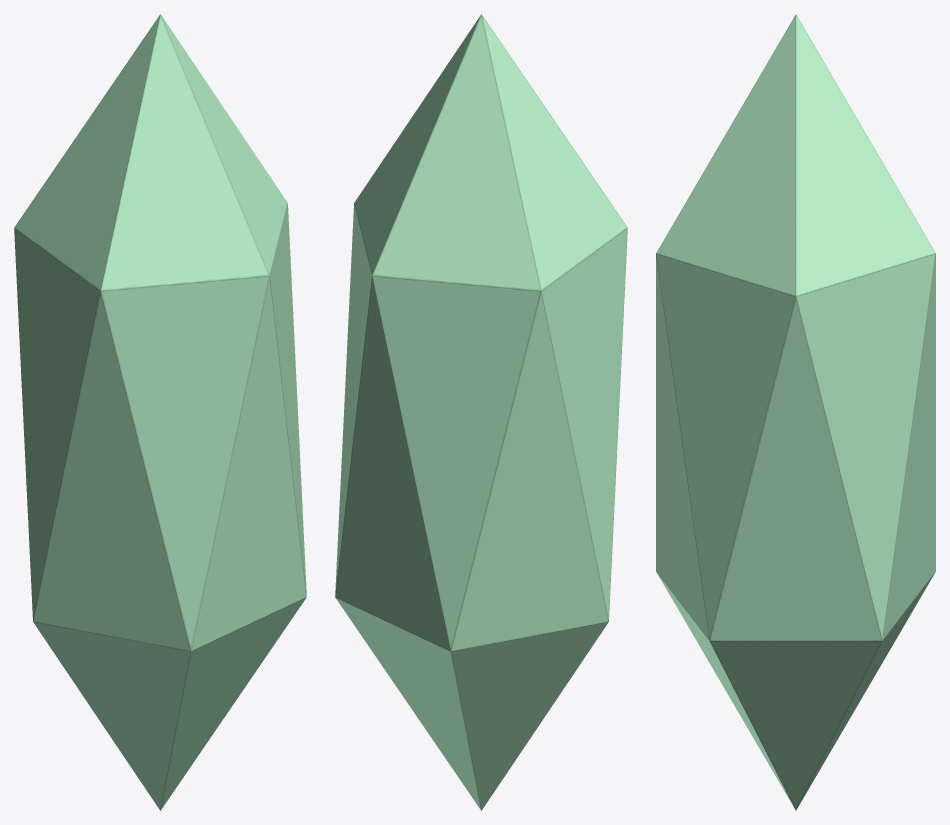
Rendered from Crystal_01_03.fbx.
The picture shows the model from 3 angles, left to right: view 1: azimuth 30°, elevation 25°; view 2: azimuth 150°, elevation 25°; view 3: azimuth 270°, elevation 25°; orthographic projection.
Parts seen in each view (by area): view 1: Crystal_01.002; view 2: Crystal_01.002; view 3: Crystal_01.002.
Part boxes in pixels (<box>): Crystal_01.002: <box>14,14,306,810</box>; Crystal_01.002: <box>335,14,627,810</box>; Crystal_01.002: <box>656,14,935,810</box>.
Size of the model in its own units: 179 by 534 by 170.
Materials: 1 (1 with a texture image).
